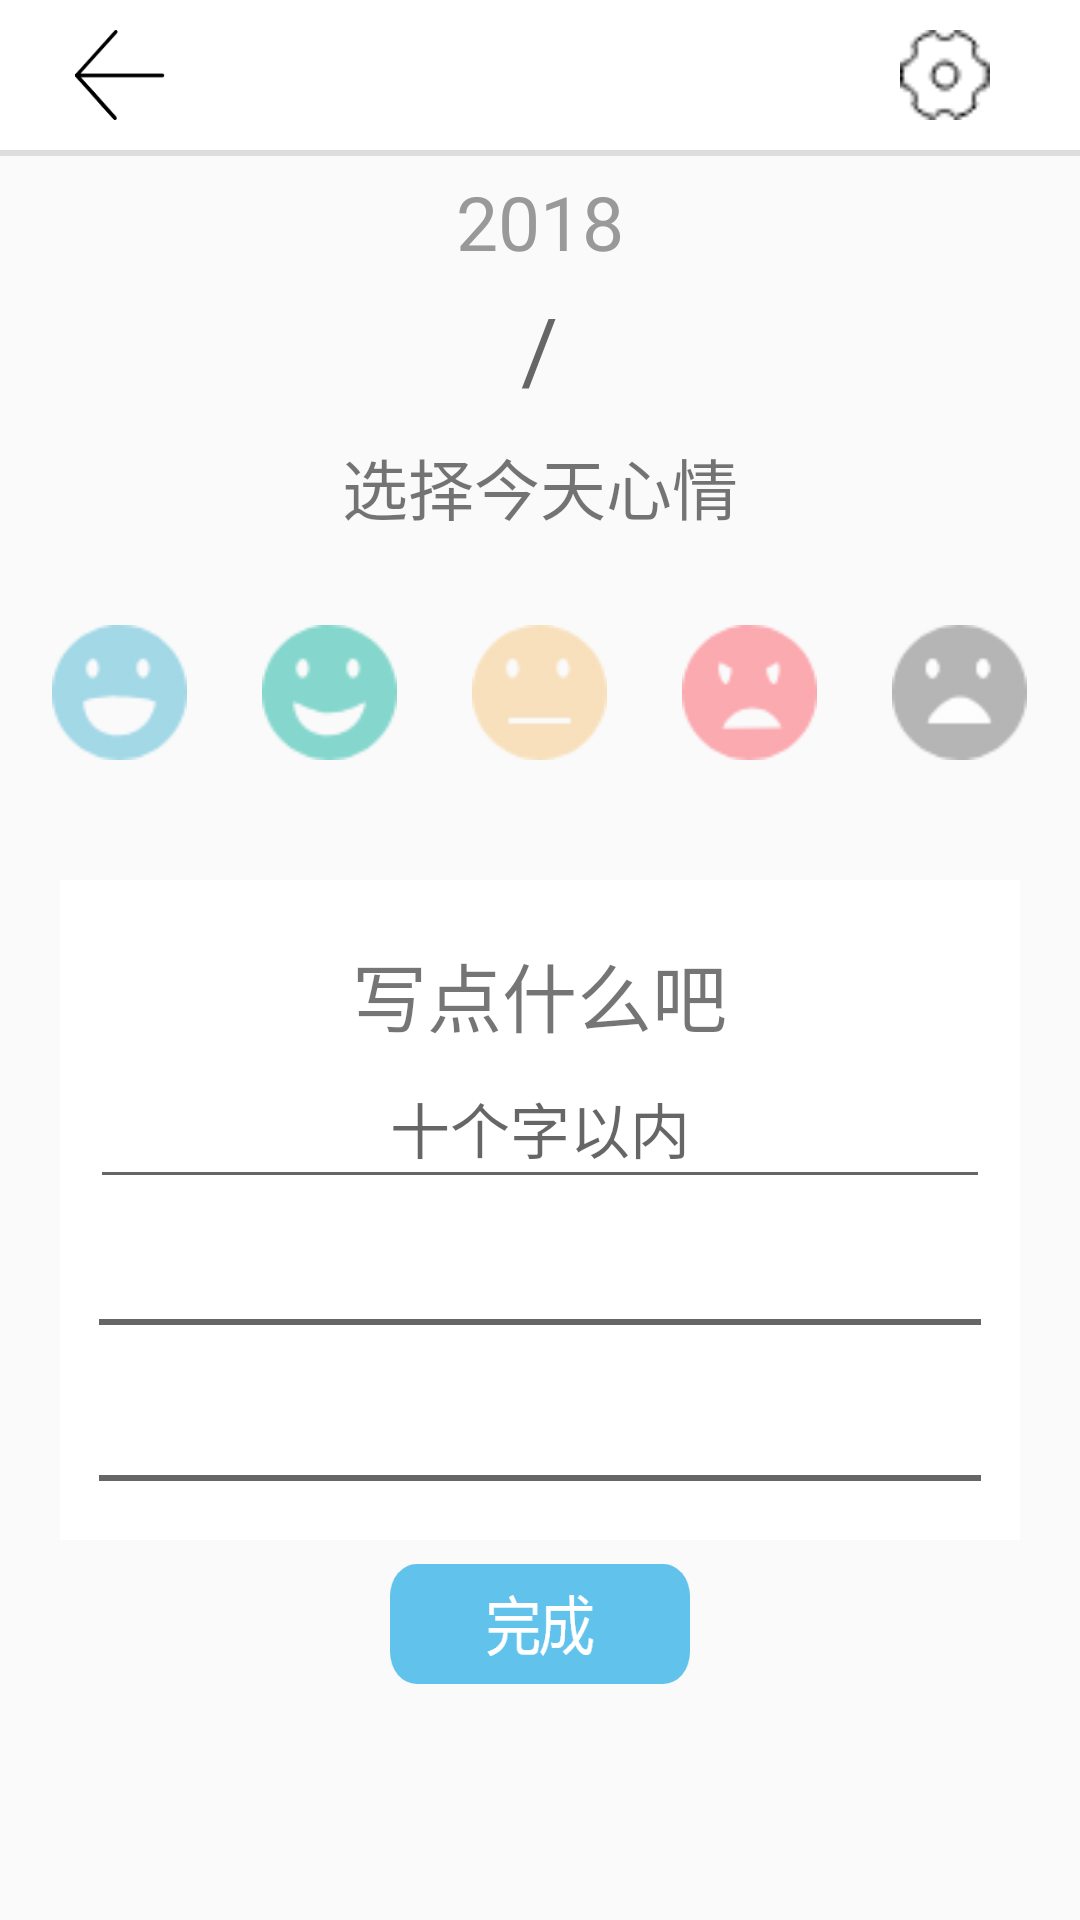

Locate icon controls on the screen. Image size 1080×1920, boxes as rect(x1, y1, x2, y2).
emotionangry: rect(682, 625, 817, 760)
emotionclam: rect(472, 625, 607, 760)
emotionecstasy: rect(52, 625, 187, 760)
emotionhappy: rect(262, 625, 397, 760)
emotionsad: rect(892, 625, 1027, 760)
left: rect(75, 30, 165, 120)
setting: rect(900, 30, 990, 120)
